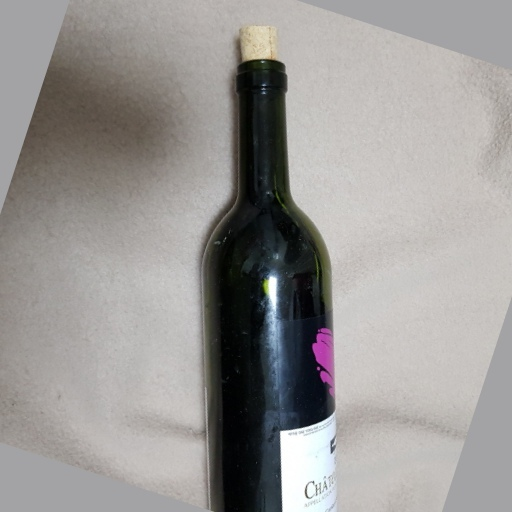Glass_2: (188, 16, 352, 512)
